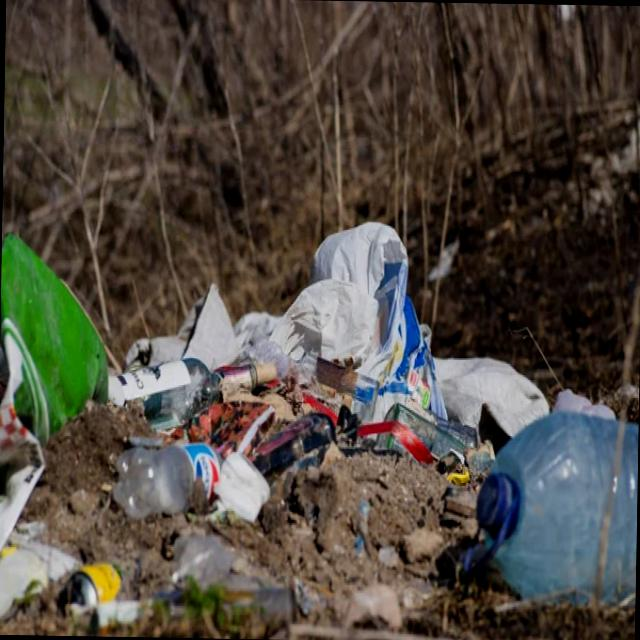garbage: (45, 150, 558, 594)
